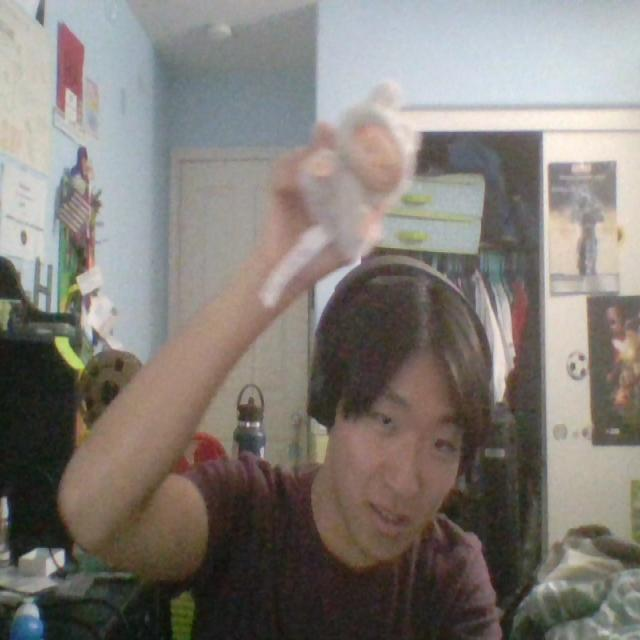labubu: (300, 83, 418, 263)
